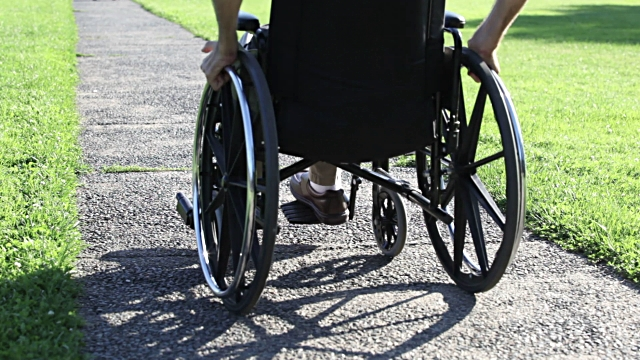wheelchair: (170, 26, 531, 309)
